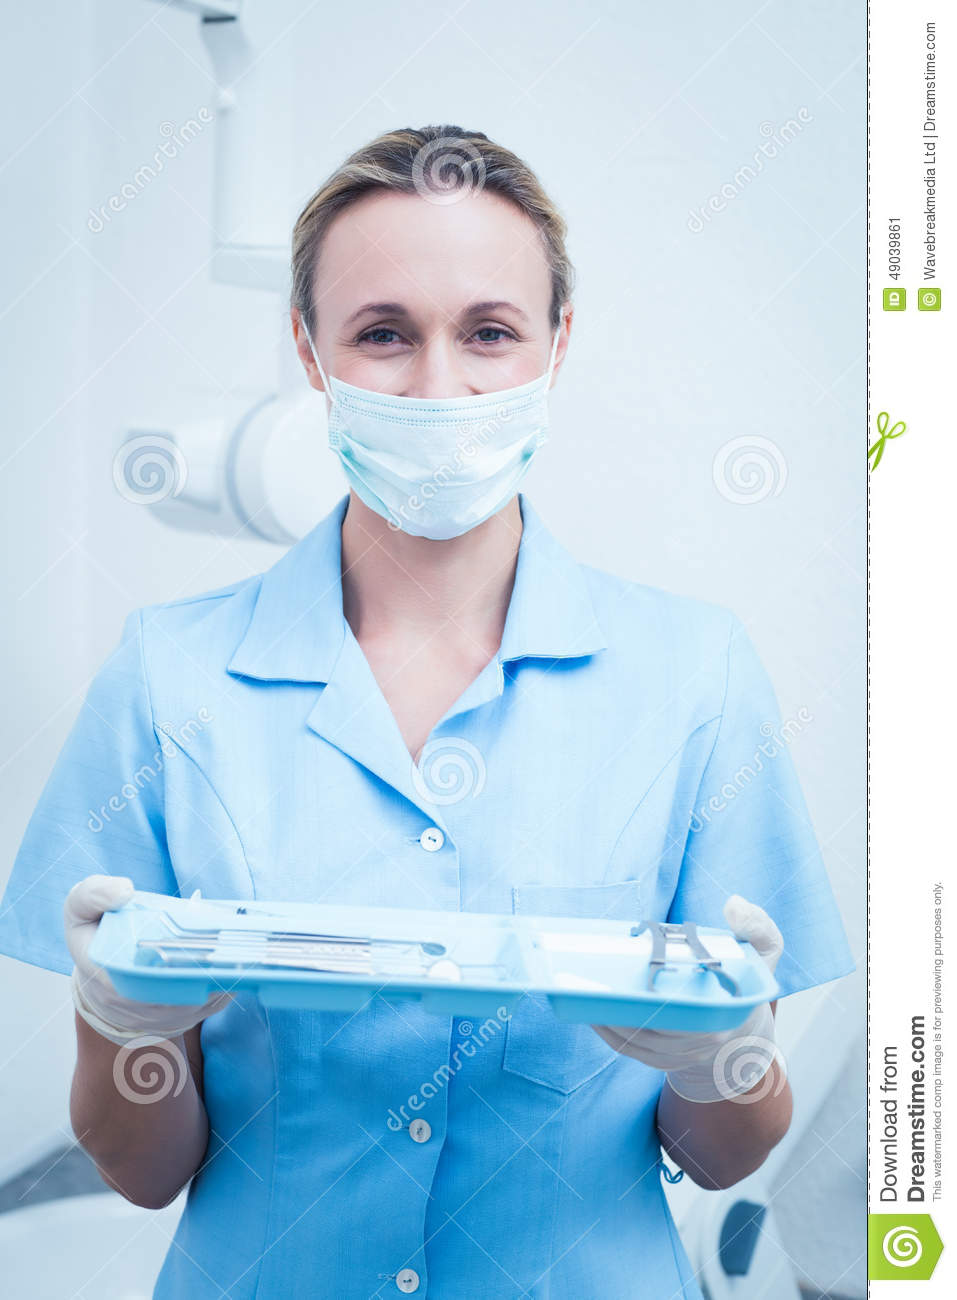mask: (318, 365, 564, 539)
